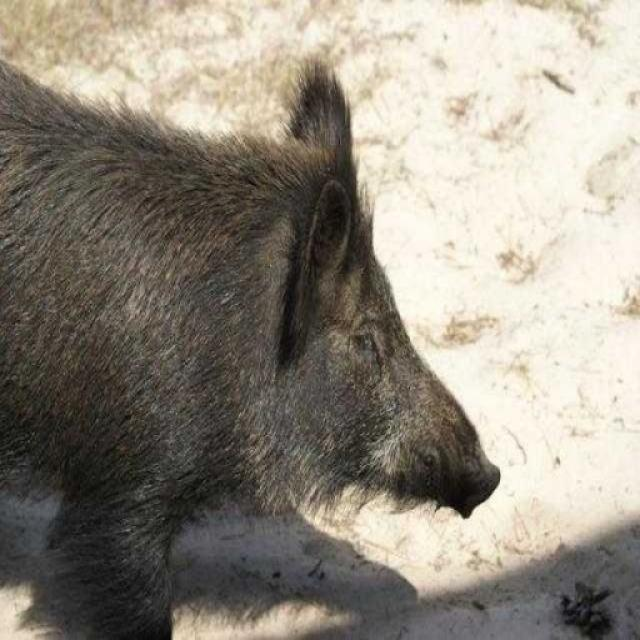pig: (18, 33, 633, 640)
